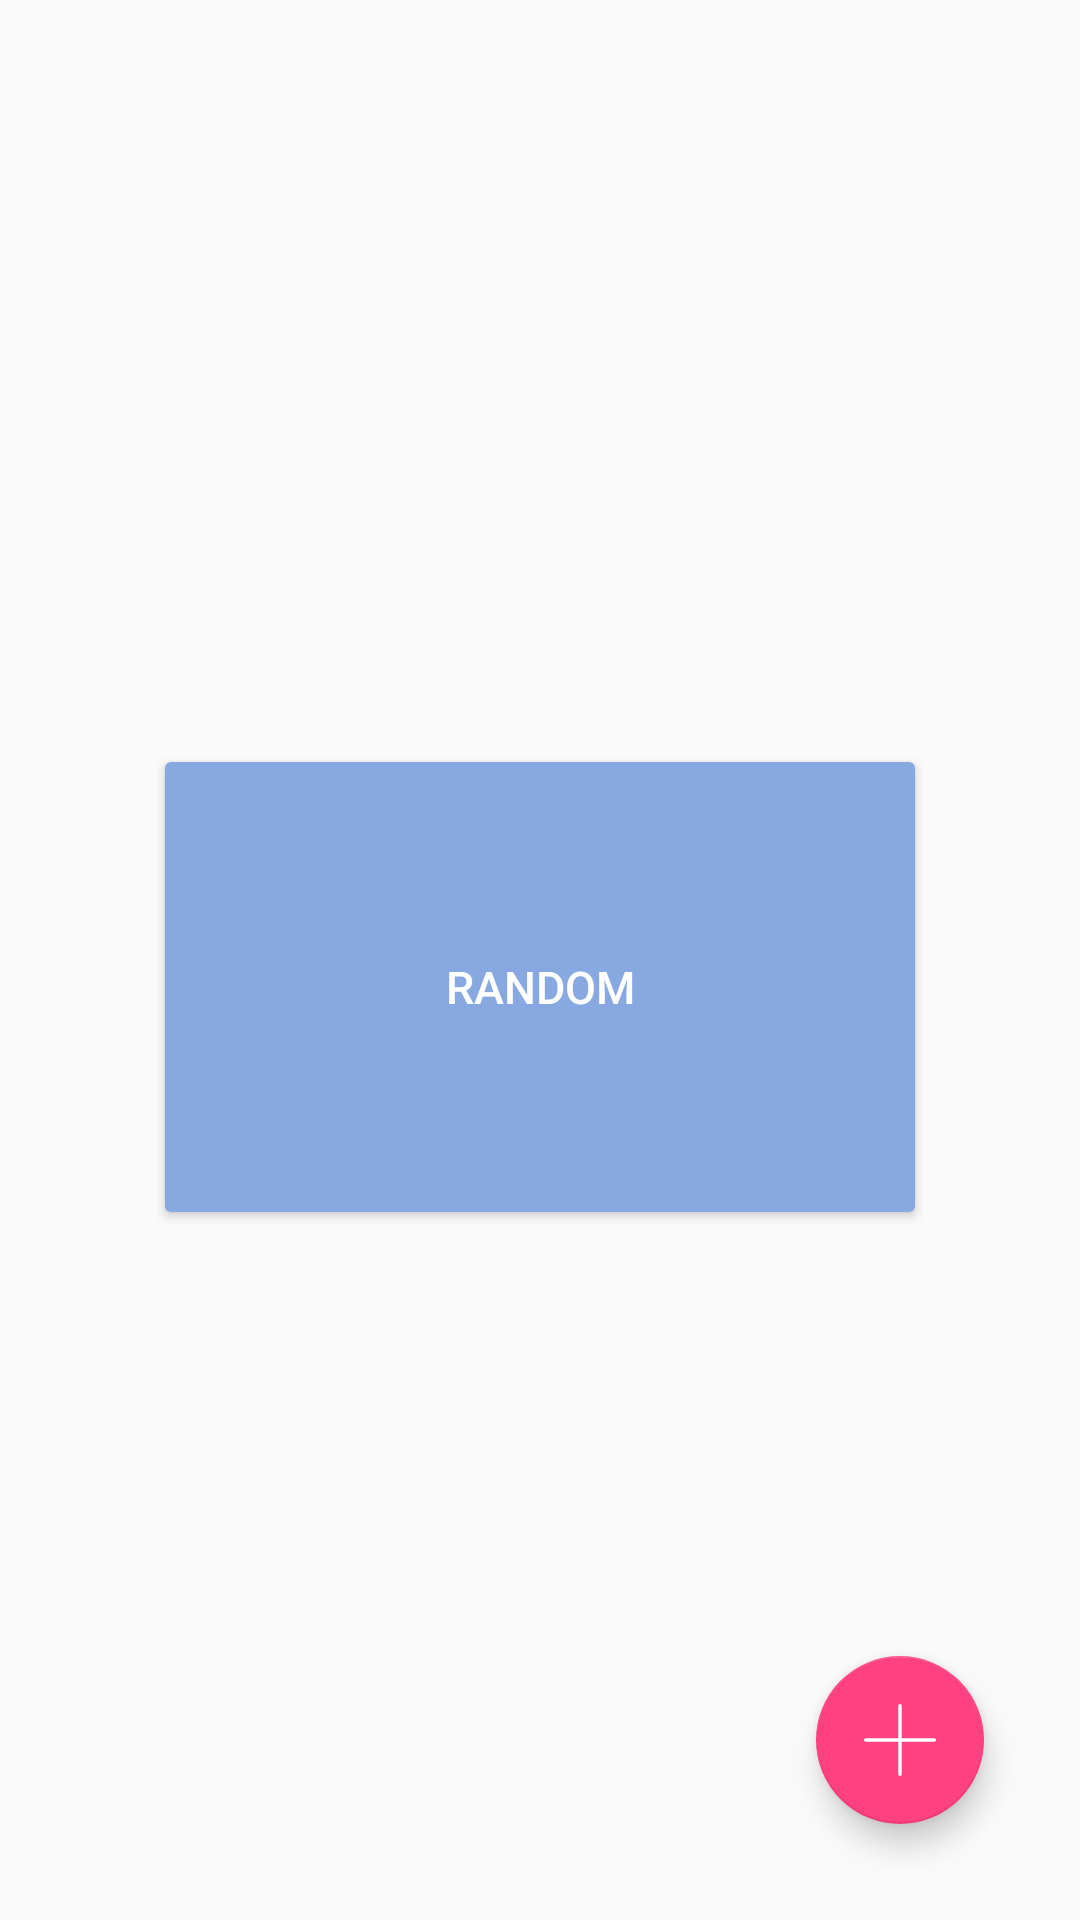

Screen size 1080 x 1920. Icon name, then its box in pixels as (x1, y1, x2, y2):
plus: (816, 1656, 984, 1824)
